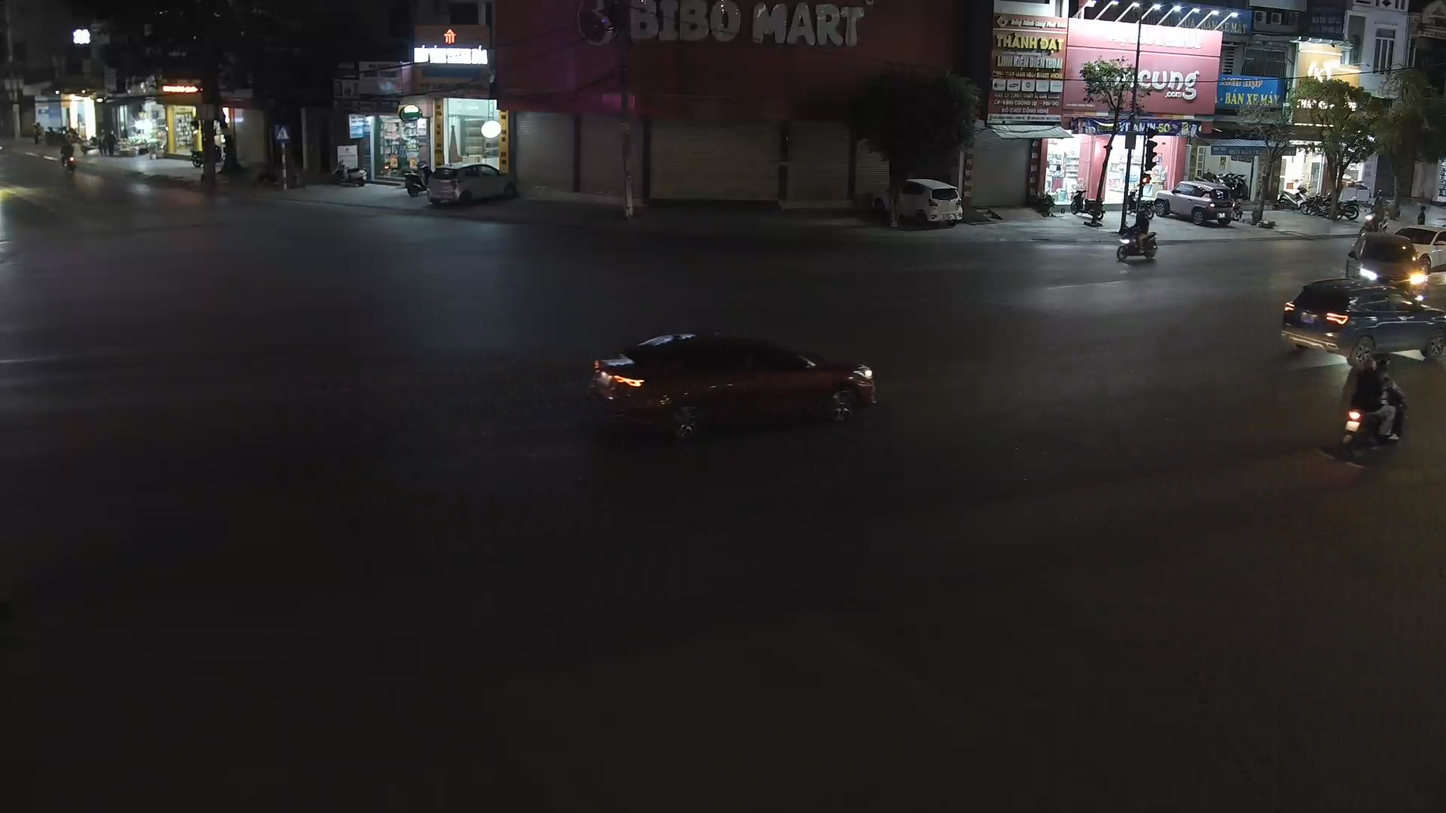car: (590, 330, 878, 440), (1279, 275, 1445, 368), (1346, 224, 1445, 308), (426, 158, 522, 210)
motorbike: (1331, 352, 1409, 468), (1113, 204, 1161, 268)
